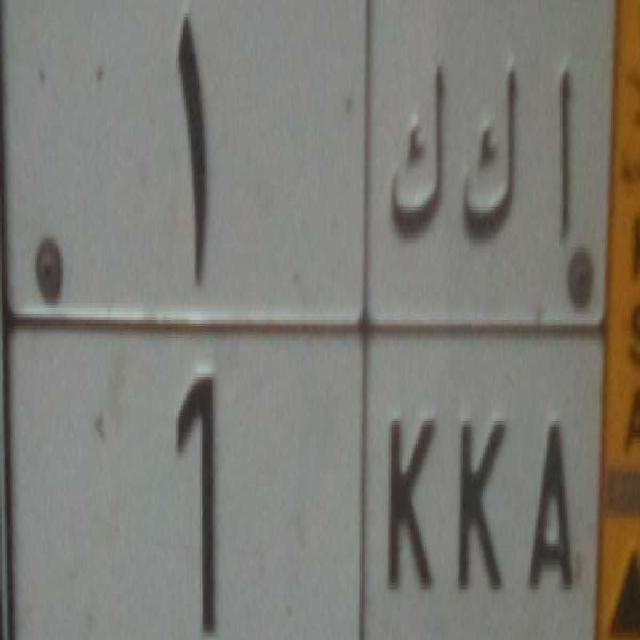license_plate: (28, 322, 604, 640)
